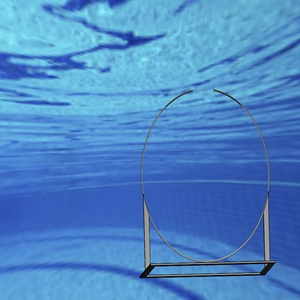circle: (138, 87, 275, 279)
